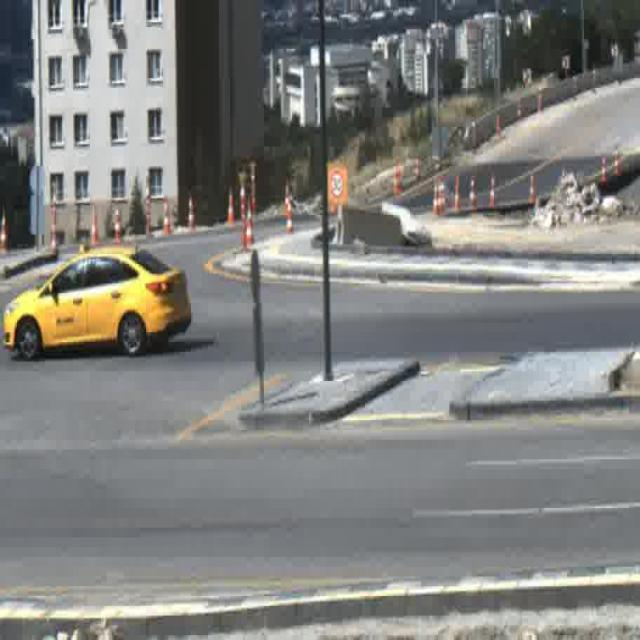Car: (3, 245, 189, 357)
